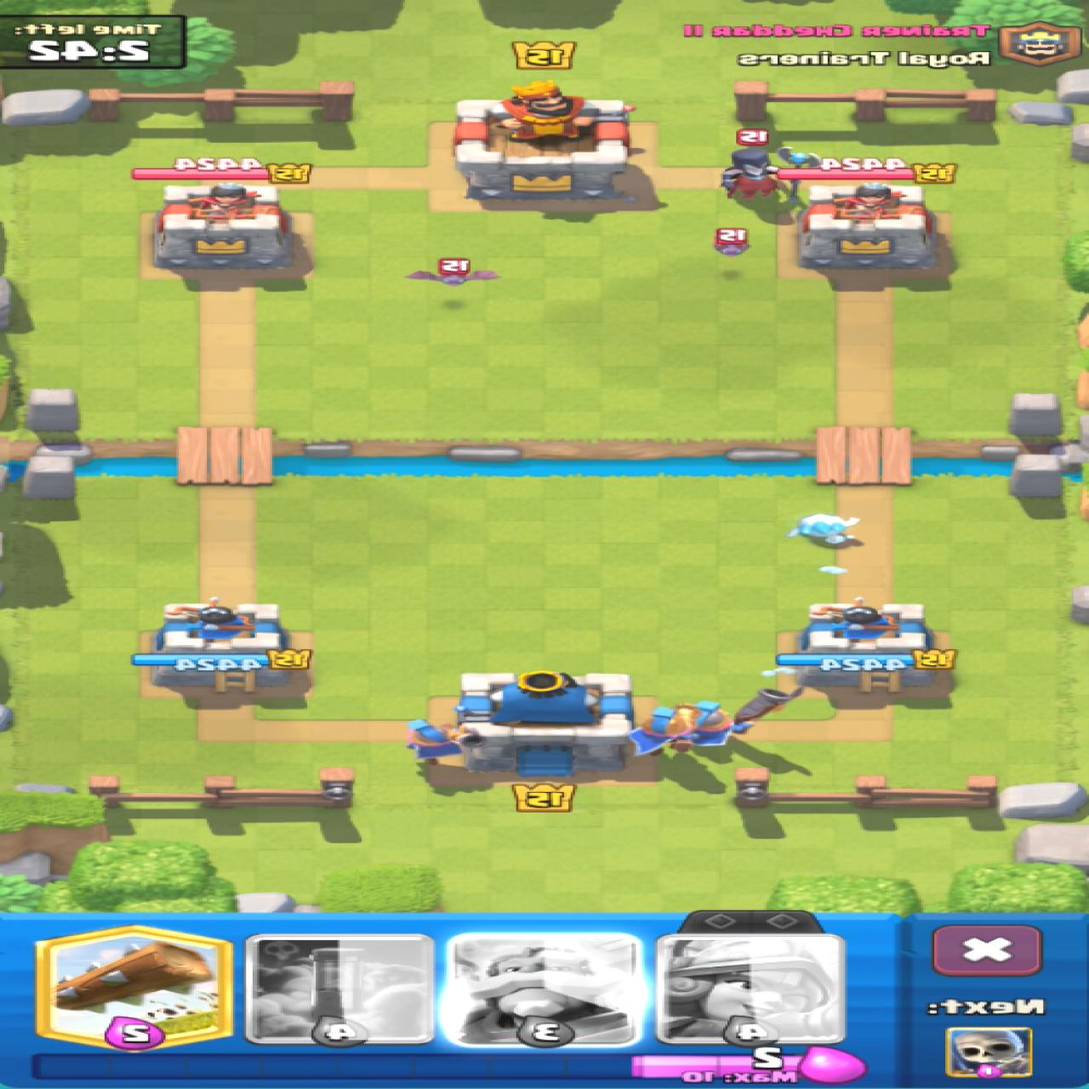Enemy-Bat: (407, 258, 499, 285), (717, 230, 749, 255)
Enemy-KingTower: (455, 80, 632, 198)
Enemy-NightWitch: (723, 148, 802, 201), (778, 147, 819, 167)
Enemy-PrincessTower: (155, 183, 292, 276), (799, 181, 939, 271)
